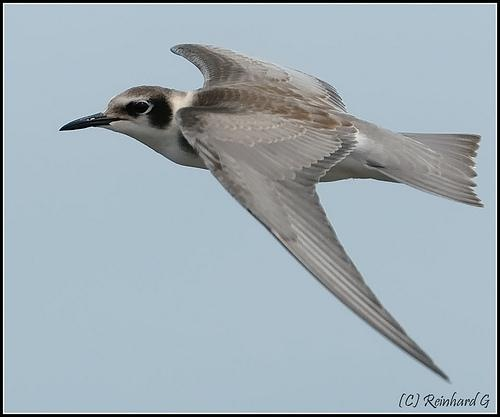bird: (56, 42, 490, 386)
